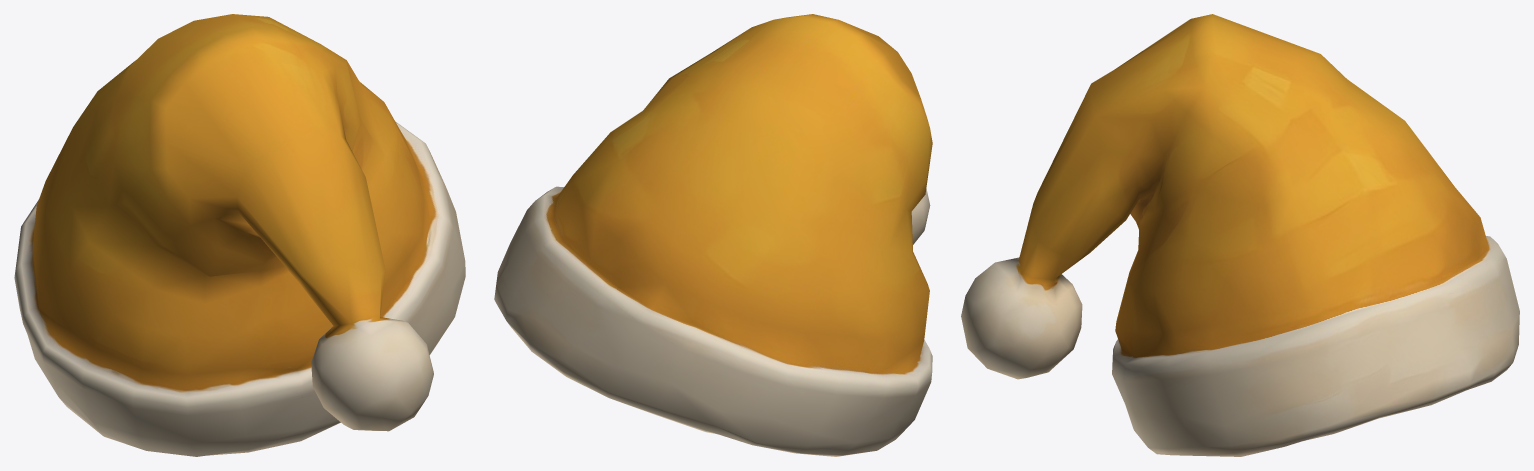
3 renders of one model, left to right at view 1: azimuth 30°, elevation 25°; view 2: azimuth 150°, elevation 25°; view 3: azimuth 270°, elevation 25°, orthographic. The views are drawn at different scales.
Parts seen in each view (by area): view 1: tripo_node_12ea24f2-f30a-44e0-90b2-aaecac74eb4c; view 2: tripo_node_12ea24f2-f30a-44e0-90b2-aaecac74eb4c; view 3: tripo_node_12ea24f2-f30a-44e0-90b2-aaecac74eb4c.
Part boxes in pixels (left/top/right/bottom): tripo_node_12ea24f2-f30a-44e0-90b2-aaecac74eb4c: left=14, top=14, right=465, bottom=456; tripo_node_12ea24f2-f30a-44e0-90b2-aaecac74eb4c: left=494, top=14, right=932, bottom=456; tripo_node_12ea24f2-f30a-44e0-90b2-aaecac74eb4c: left=961, top=14, right=1519, bottom=456.
Bounding box in the file's own units: 0.8418 × 0.7832 × 0.998.
Materials: 1 (1 with a texture image).
